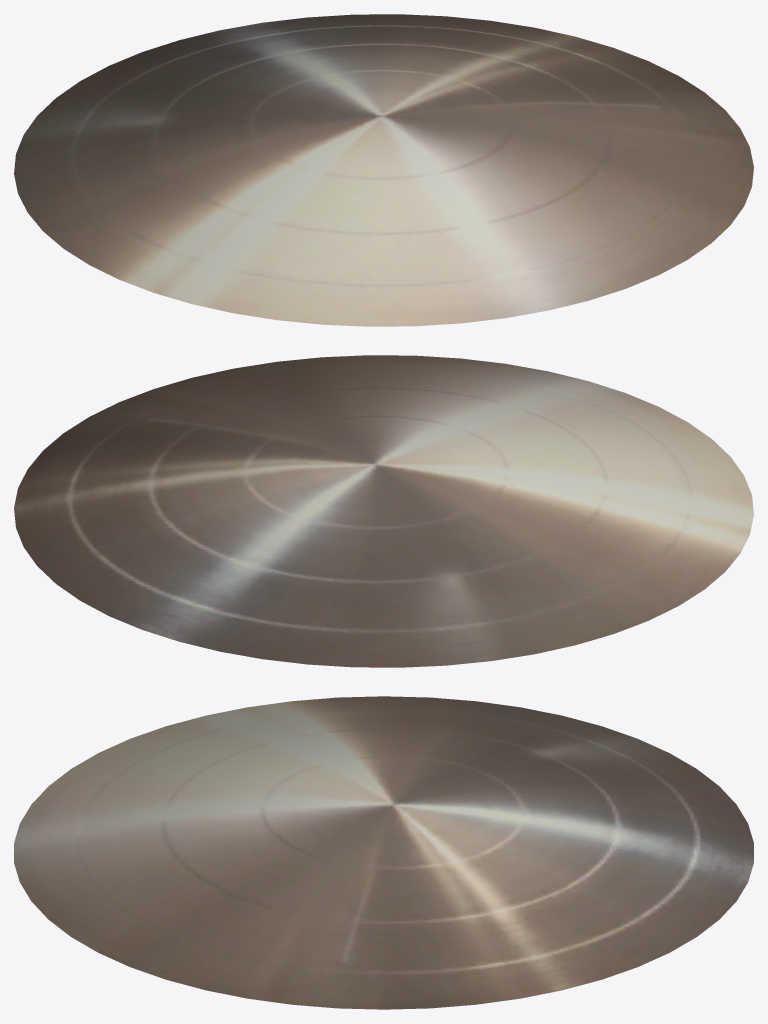
File: Round_Shield.glb
3 views of the same model, one above another, from view 1: azimuth 30°, elevation 25°; view 2: azimuth 150°, elevation 25°; view 3: azimuth 270°, elevation 25° (orthographic).
Parts seen in each view (by area): view 1: Round_Shield; view 2: Round_Shield; view 3: Round_Shield.
Boxes of the visible parts, bbox=[...] form: Round_Shield: bbox=[14, 14, 753, 326]; Round_Shield: bbox=[14, 355, 753, 667]; Round_Shield: bbox=[14, 696, 753, 1009].
Bounding box in the file's own units: 6.35 × 0.4744 × 6.34.
Materials: 1 (1 with a texture image).
